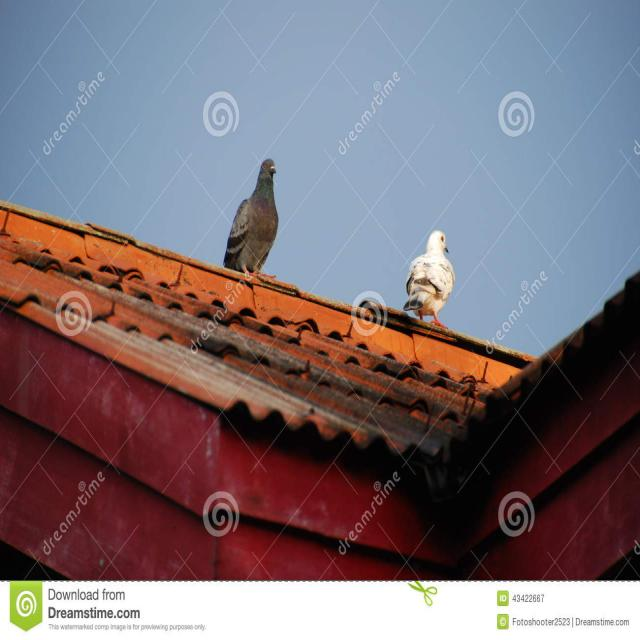bird: (220, 157, 282, 279), (402, 229, 457, 331)
